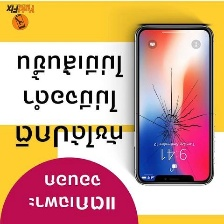phone: (129, 20, 216, 186)
